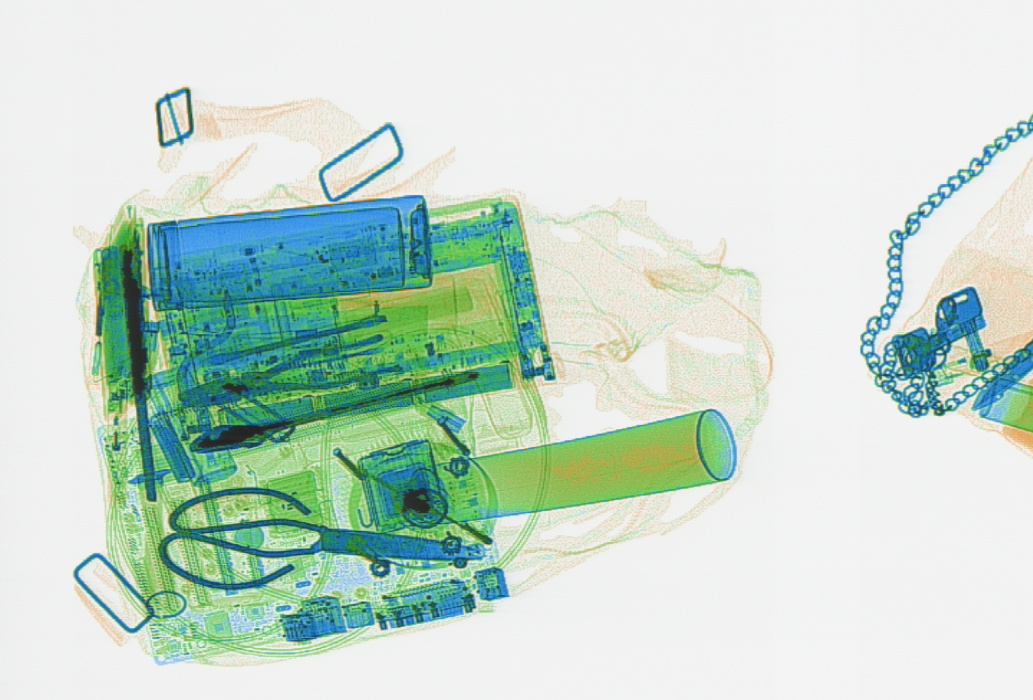lighter: (922, 325, 1030, 392), (101, 381, 131, 504)
pressure: (396, 405, 738, 531)
scissors: (155, 485, 483, 591)
